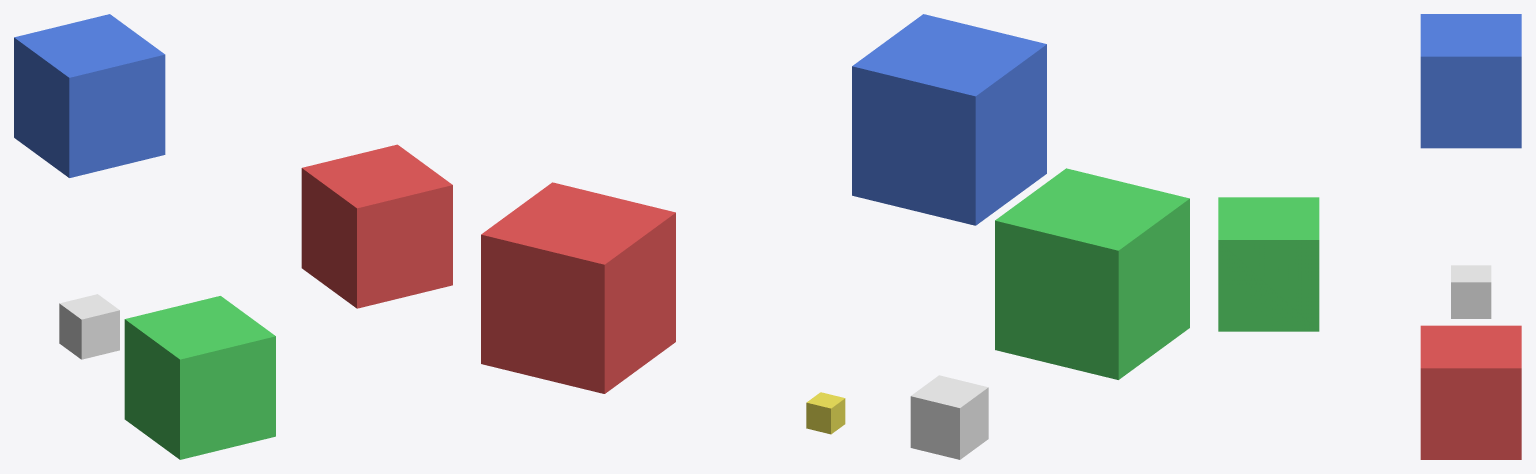
File: AxisTest.glb
The picture shows the model from 3 angles, left to right: view 1: azimuth 30°, elevation 25°; view 2: azimuth 150°, elevation 25°; view 3: azimuth 270°, elevation 25°; orthographic projection. The views are drawn at different scales.
Parts seen in each view (by area): view 1: AxisX_Red, AxisY_Green, AxisZ_Blue, Origin_White; view 2: AxisY_Green, AxisZ_Blue, AxisX_Red, Origin_White, Marker_1m; view 3: AxisY_Green, AxisX_Red, AxisZ_Blue, Origin_White.
Boxes of the visible parts, x1=… form: AxisX_Red: x1=301, y1=144, x2=452, y2=308; AxisY_Green: x1=124, y1=296, x2=275, y2=459; AxisZ_Blue: x1=14, y1=14, x2=165, y2=177; Origin_White: x1=59, y1=294, x2=119, y2=359; AxisY_Green: x1=995, y1=168, x2=1189, y2=379; AxisZ_Blue: x1=852, y1=14, x2=1046, y2=225; AxisX_Red: x1=481, y1=182, x2=675, y2=393; Origin_White: x1=910, y1=375, x2=988, y2=459; Marker_1m: x1=806, y1=392, x2=845, y2=434; AxisY_Green: x1=1218, y1=197, x2=1319, y2=331; AxisX_Red: x1=1420, y1=325, x2=1521, y2=459; AxisZ_Blue: x1=1420, y1=14, x2=1521, y2=148; Origin_White: x1=1451, y1=265, x2=1491, y2=318.
Size of what is drawn, in the model's own units: 4 by 3.1 by 3.
